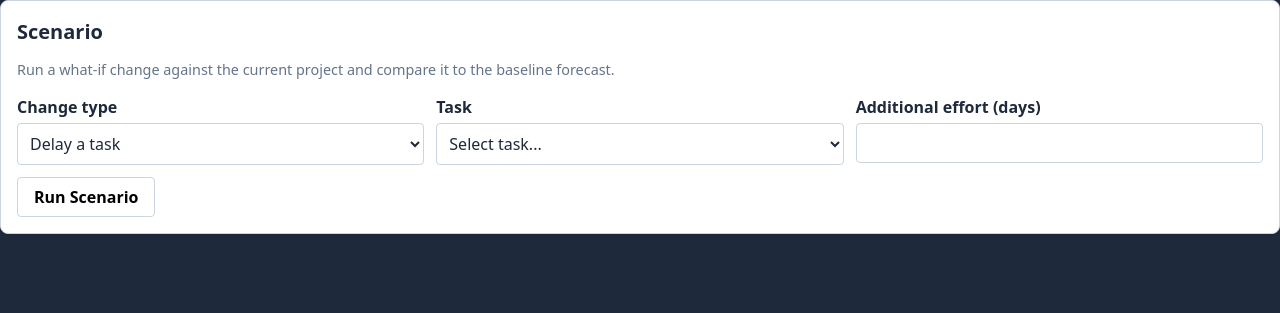
ScenarioPanel › requires selecting a task before running
The width and height of the screenshot is (1280, 313).
Click the button with test id "run-scenario-button" at (86, 197), box [17,177,156,217]
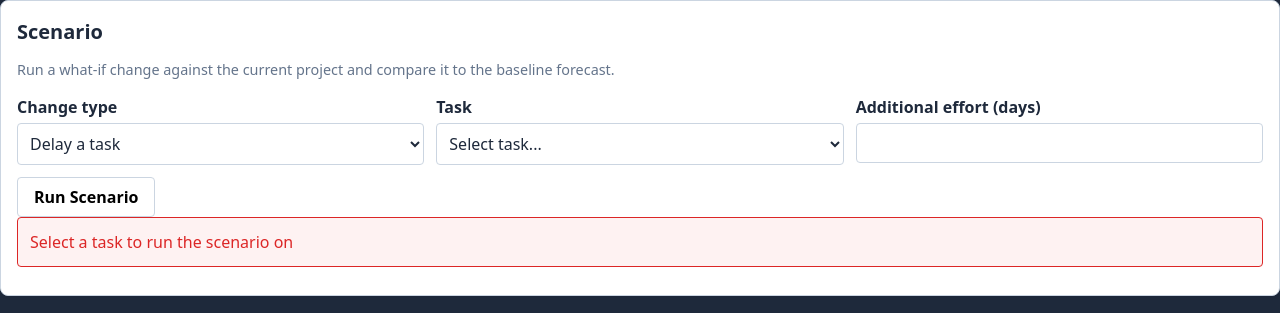
Expected: the message with test id "scenario-error" shows "Select a task", [30,231,293,253]
